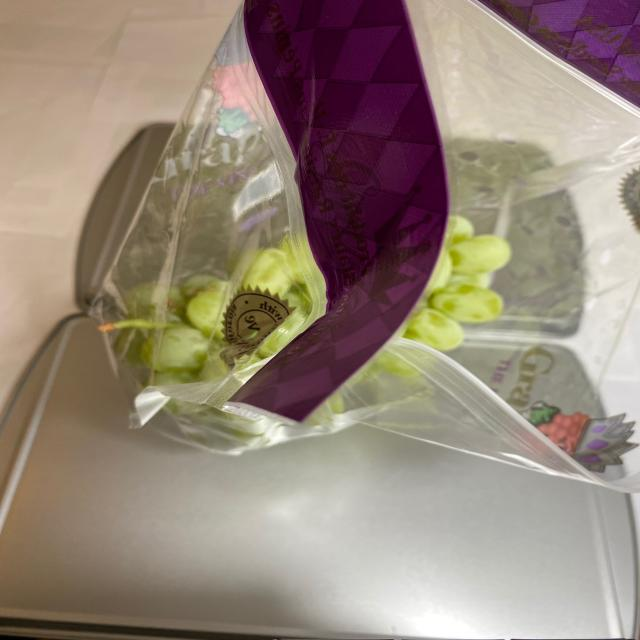grapes: (127, 202, 536, 402)
